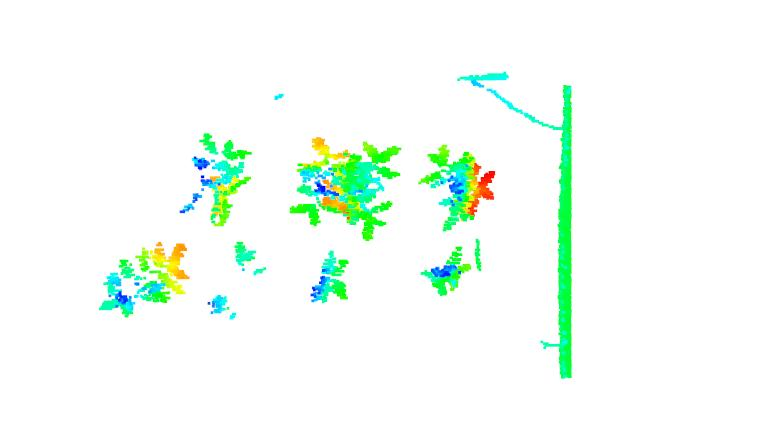chickpea: (97, 236, 196, 321), (276, 127, 355, 225), (423, 140, 502, 233), (186, 131, 257, 225), (346, 137, 409, 239), (200, 237, 268, 316), (296, 250, 351, 309), (415, 248, 476, 300)
